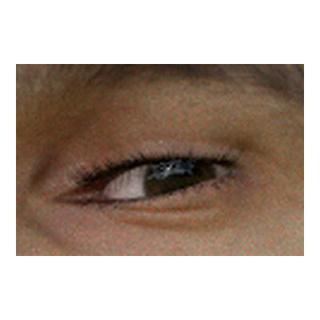pupil: (164, 168, 197, 200)
